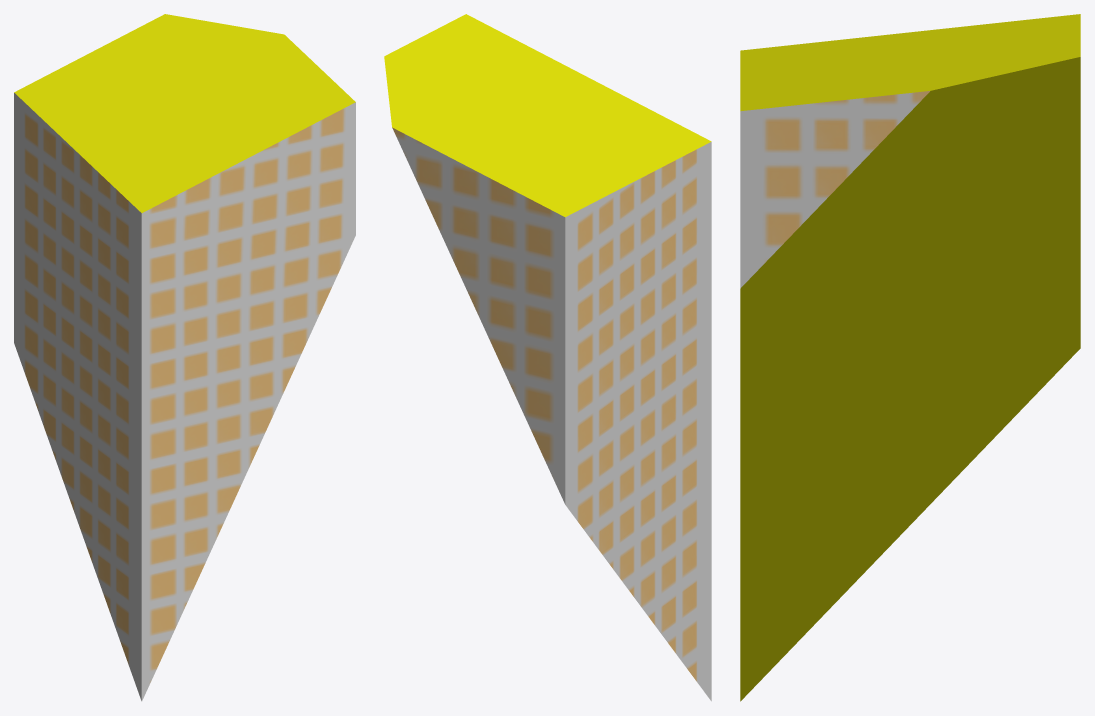
The model's file is st1Shard1.fbx.
3 views of the same model, side by side, from view 1: azimuth 30°, elevation 25°; view 2: azimuth 150°, elevation 25°; view 3: azimuth 270°, elevation 25° (orthographic). The views are drawn at different scales.
Parts seen in each view (by area): view 1: shard46; view 2: shard46; view 3: shard46.
Boxes of the visible parts, x1,y1,x2,y2 form: shard46: (14,14,355,701); shard46: (384,14,711,701); shard46: (740,14,1080,701).
Bounding box in the file's own units: 0.0992 × 0.2492 × 0.1025.
Materials: 2 (1 with a texture image).
